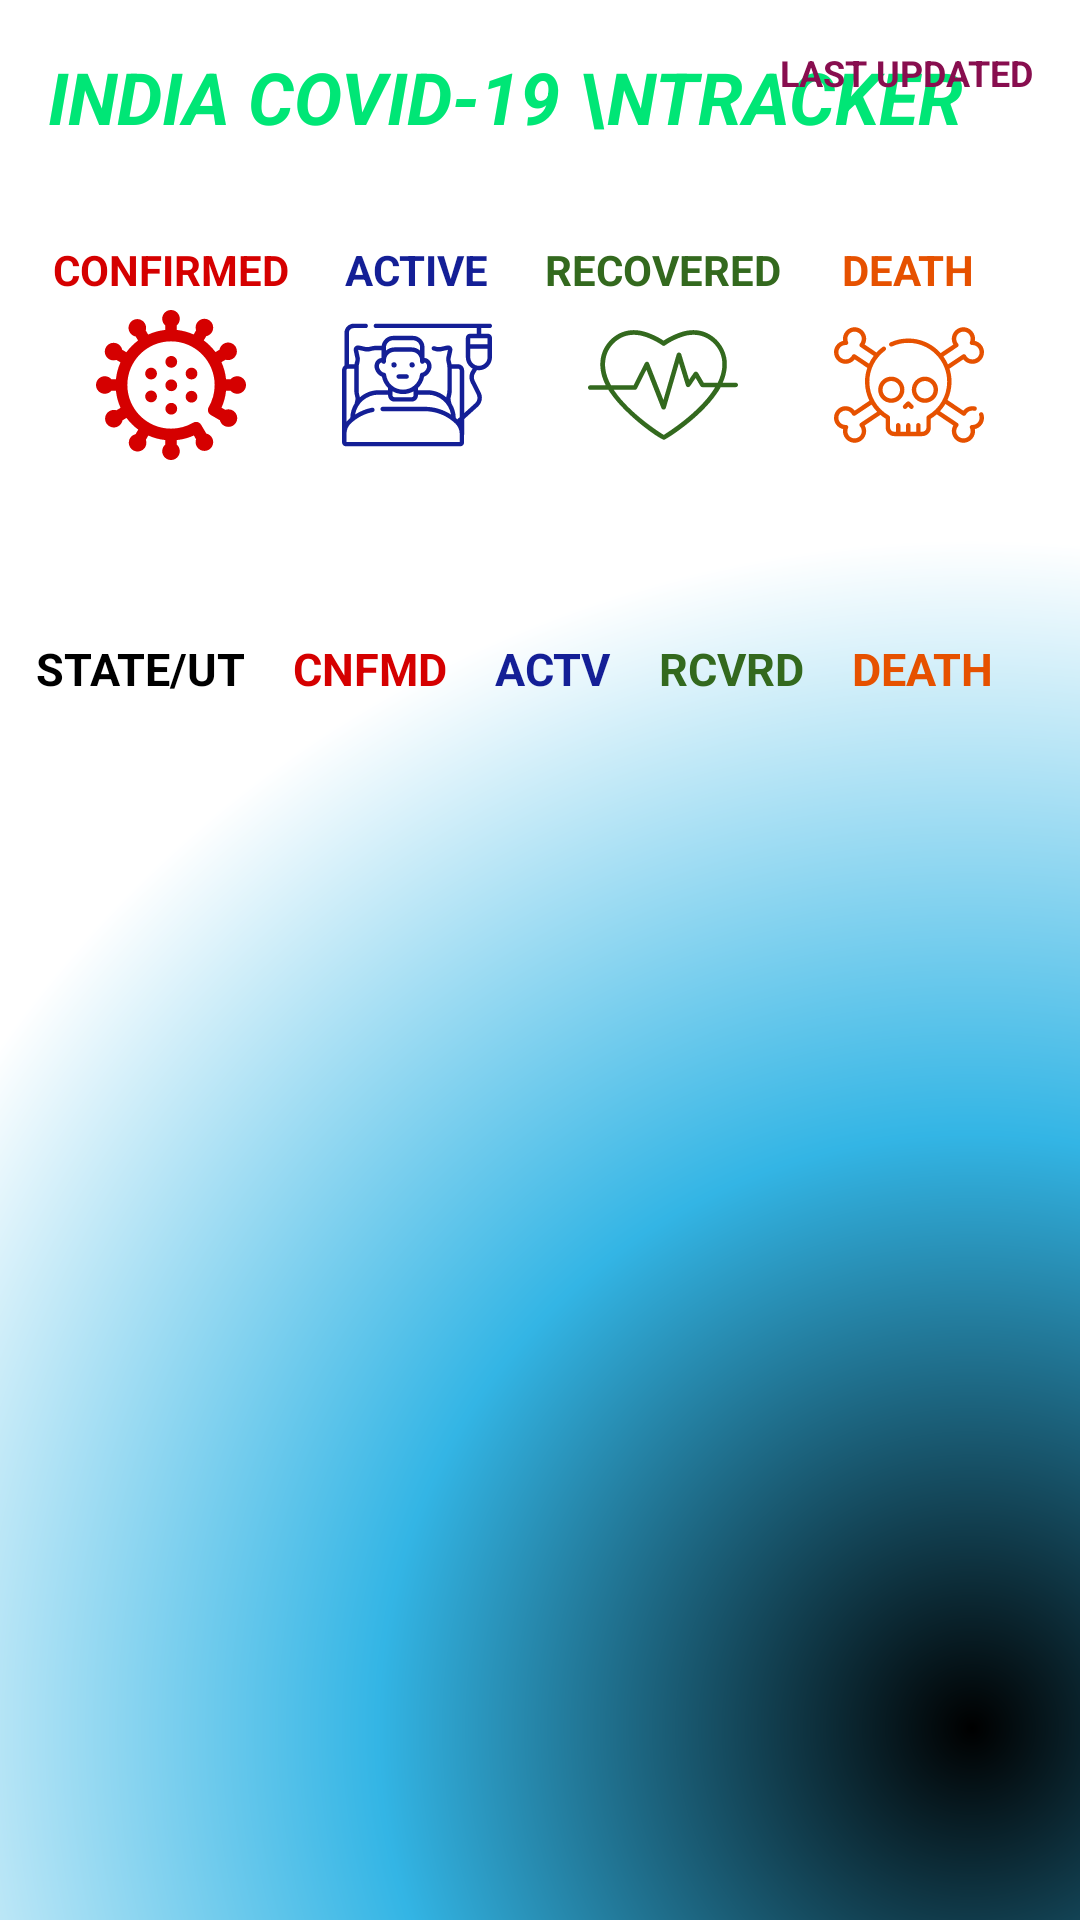

Where icons sit on this 1080×1920 app screen, as (x1=x1, y1=y1, x2=x2, y2=y2):
heart: (x1=588, y1=330, x2=738, y2=440)
patient: (x1=342, y1=323, x2=492, y2=447)
virus: (x1=96, y1=310, x2=246, y2=460)
